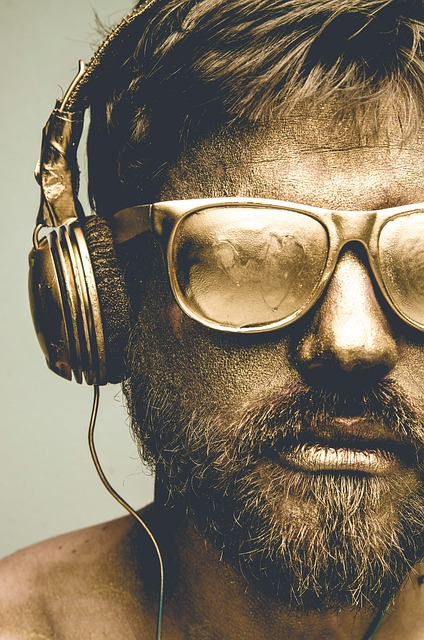headphones: (29, 1, 156, 386)
